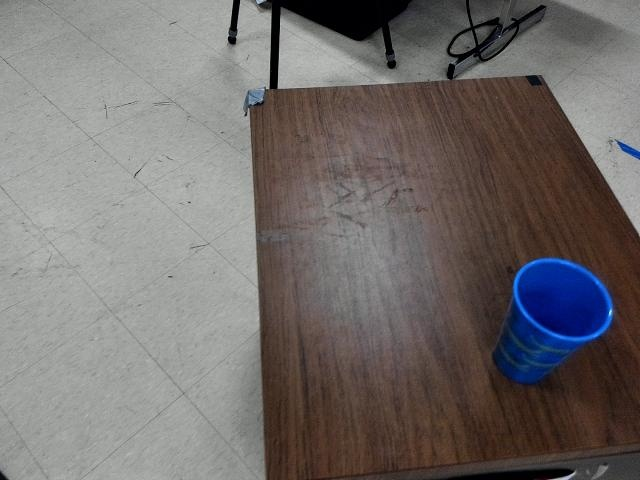water_cup: (483, 248, 619, 404)
